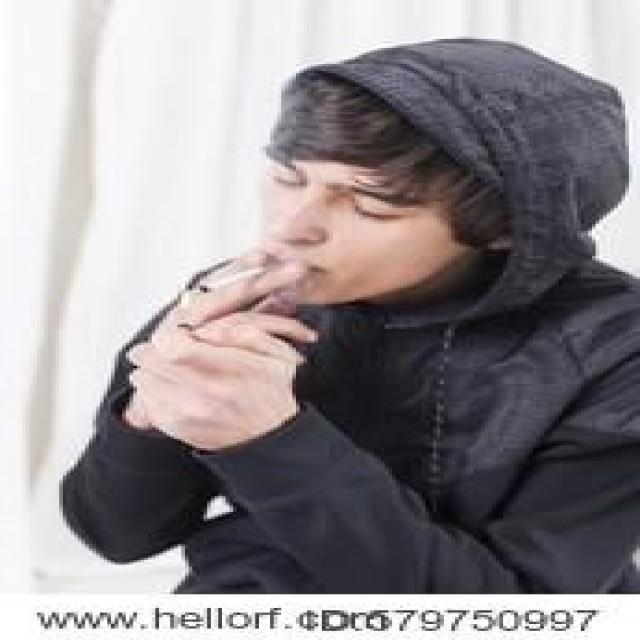Сигарета: (200, 268, 266, 292)
Тело: (59, 36, 640, 640)
